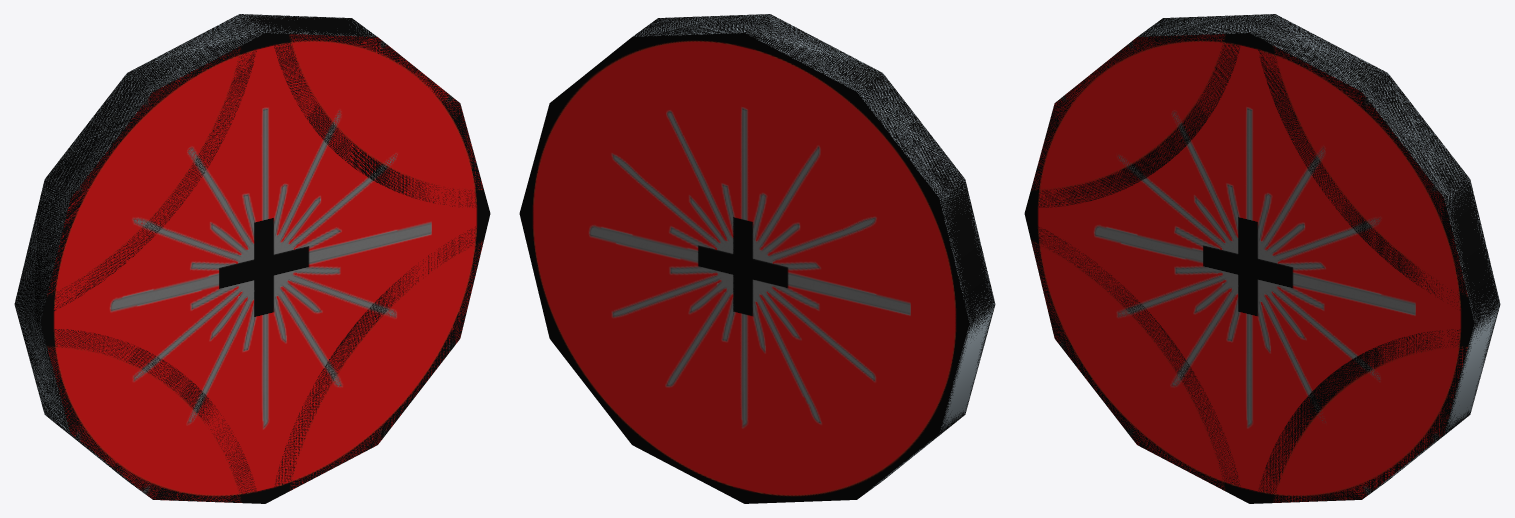
Rendered from AddSpecial1.fbx.
3 renders of one model, left to right at view 1: azimuth 30°, elevation 25°; view 2: azimuth 150°, elevation 25°; view 3: azimuth 330°, elevation 25°, orthographic.
Visible parts, largest first — view 1: Model; view 2: Model; view 3: Model.
Boxes of the visible parts, box(x1,y1,x2,y2) form: Model: box(14, 14, 490, 503); Model: box(519, 14, 995, 503); Model: box(1024, 14, 1500, 503).
Size of the model in its own units: 1 by 1 by 0.1.
